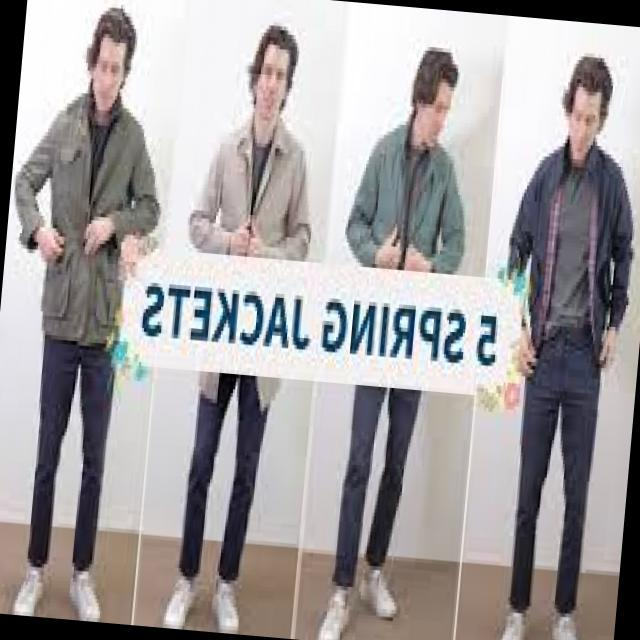Jacket: (302, 116, 462, 449), (19, 93, 162, 344), (511, 140, 640, 389), (191, 123, 300, 416)
